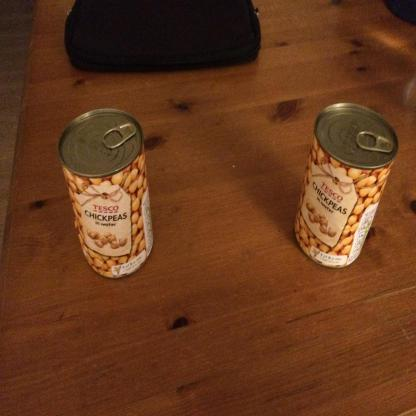metal: (294, 102, 400, 272), (57, 107, 156, 281)
